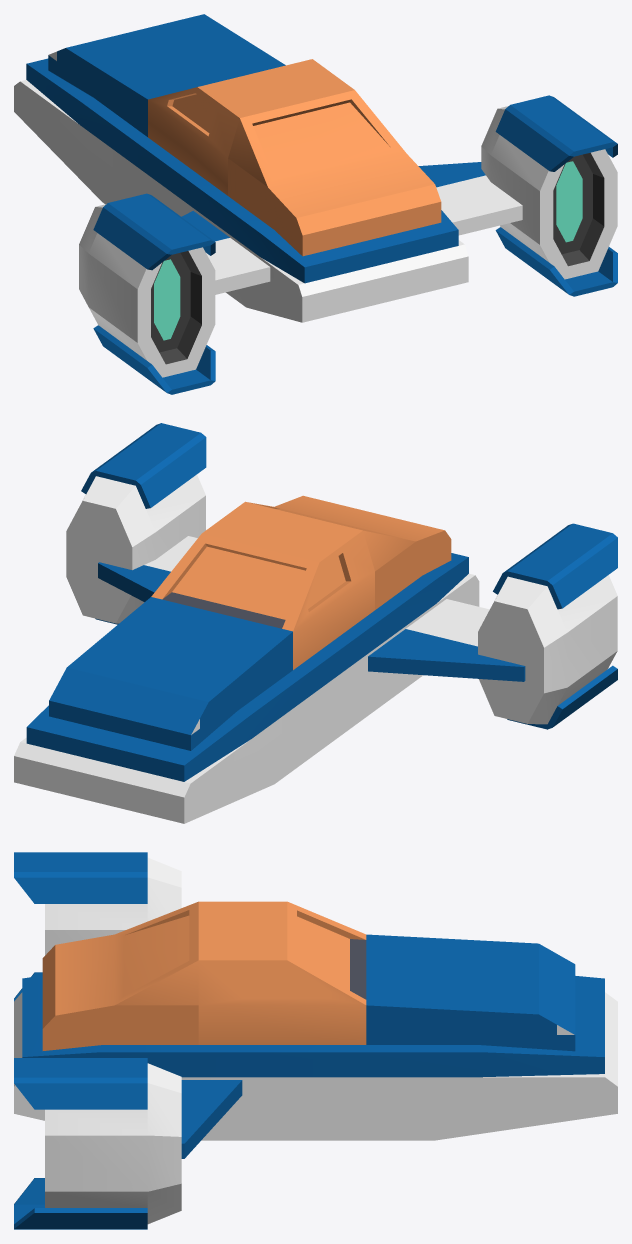
Rendered from hovercar.fbx.
3 views of the same model, one above another, from view 1: azimuth 30°, elevation 25°; view 2: azimuth 150°, elevation 25°; view 3: azimuth 270°, elevation 25° (orthographic). The views are drawn at different scales.
Parts seen in each view (by area): view 1: trunk_default_2, engine_high_7, engine_high_8, trunk_sports%_3, hood_default_0, trunk_sports%_4, windshield_default_1, wing_endHigh_6, wing_endHigh_5; view 2: trunk_sports%_4, hood_default_0, engine_high_7, windshield_default_1, engine_high_8, wing_endHigh_5, trunk_default_2, trunk_sports%_3, wing_endHigh_6; view 3: trunk_sports%_4, engine_high_8, windshield_default_1, hood_default_0, trunk_default_2, engine_high_7, trunk_sports%_3, wing_endHigh_6.
Part boxes in pixels (left/top/right/bottom): trunk_default_2: left=228, top=90, right=441, bottom=256; engine_high_7: left=79, top=193, right=215, bottom=394; engine_high_8: left=481, top=95, right=617, bottom=296; trunk_sports%_3: left=190, top=178, right=468, bottom=322; hood_default_0: left=48, top=14, right=285, bottom=136; trunk_sports%_4: left=14, top=58, right=203, bottom=216; windshield_default_1: left=148, top=59, right=354, bottom=195; wing_endHigh_6: left=418, top=162, right=522, bottom=235; wing_endHigh_5: left=181, top=211, right=270, bottom=294; trunk_sports%_4: left=14, top=628, right=364, bottom=823; hood_default_0: left=49, top=597, right=292, bottom=750; engine_high_7: left=478, top=523, right=617, bottom=729; windshield_default_1: left=151, top=502, right=374, bottom=669; engine_high_8: left=66, top=423, right=206, bottom=624; wing_endHigh_5: left=368, top=599, right=525, bottom=681; trunk_default_2: left=248, top=495, right=451, bottom=609; trunk_sports%_3: left=351, top=553, right=479, bottom=717; wing_endHigh_6: left=98, top=536, right=197, bottom=601; trunk_sports%_4: left=249, top=976, right=617, bottom=1140; engine_high_8: left=14, top=1058, right=181, bottom=1229; windshield_default_1: left=198, top=901, right=366, bottom=1044; hood_default_0: left=366, top=934, right=575, bottom=1051; trunk_default_2: left=42, top=901, right=198, bottom=1050; engine_high_7: left=14, top=852, right=181, bottom=1001; trunk_sports%_3: left=14, top=975, right=248, bottom=1140; wing_endHigh_6: left=181, top=1080, right=242, bottom=1158.
Size of the model in its own units: 34.61 by 12 by 36.
